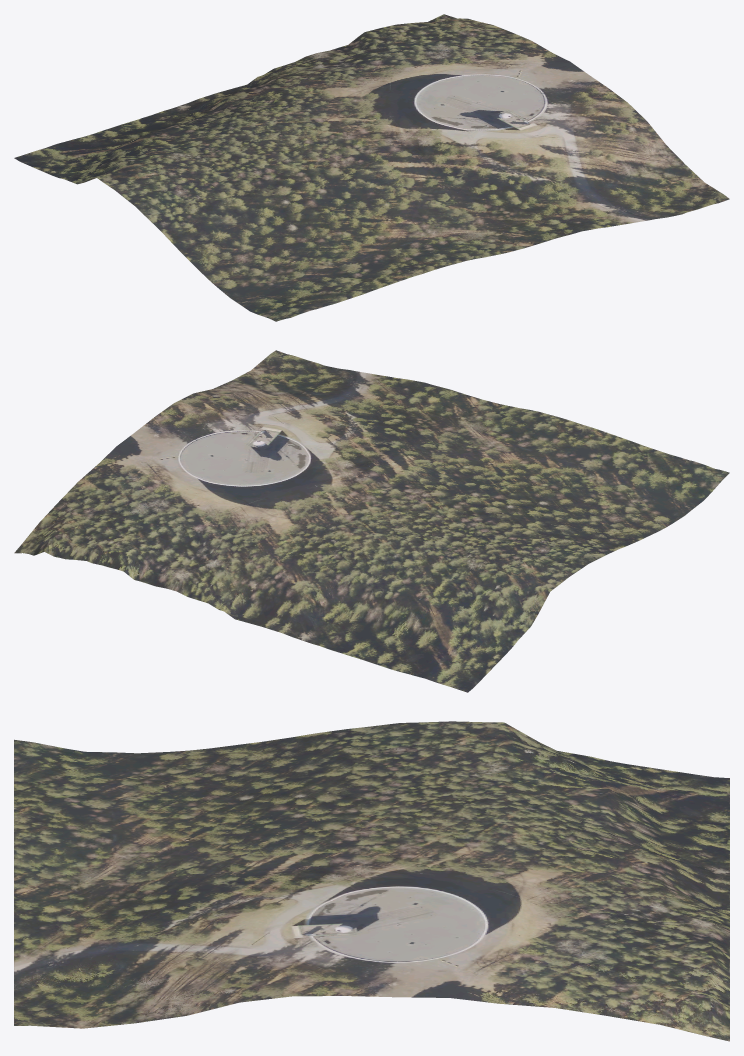
The model's file is CM_Terrain_24488820_6822456.fbx.
3 renders of one model, top to bottom at view 1: azimuth 30°, elevation 25°; view 2: azimuth 150°, elevation 25°; view 3: azimuth 270°, elevation 25°, orthographic. The views are drawn at different scales.
Parts seen in each view (by area): view 1: CM_Terrain_24488820_6822456_LOD0; view 2: CM_Terrain_24488820_6822456_LOD0; view 3: CM_Terrain_24488820_6822456_LOD0.
Boxes of the visible parts, x1,y1,x2,y2 form: CM_Terrain_24488820_6822456_LOD0: (14, 14, 729, 321); CM_Terrain_24488820_6822456_LOD0: (14, 350, 729, 692); CM_Terrain_24488820_6822456_LOD0: (14, 721, 729, 1041).
Size of what is drawn, in the model's own units: 205 by 26.94 by 205.
